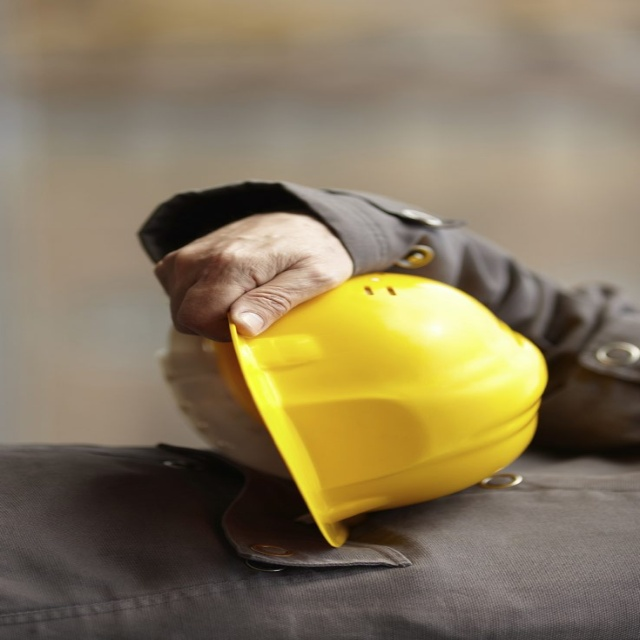yellow-helmet: (228, 272, 550, 547)
